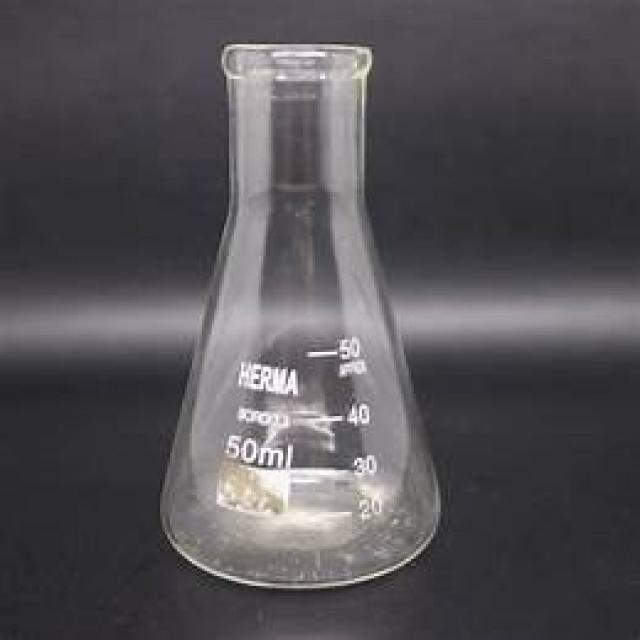Titrarion: (151, 37, 443, 593)
